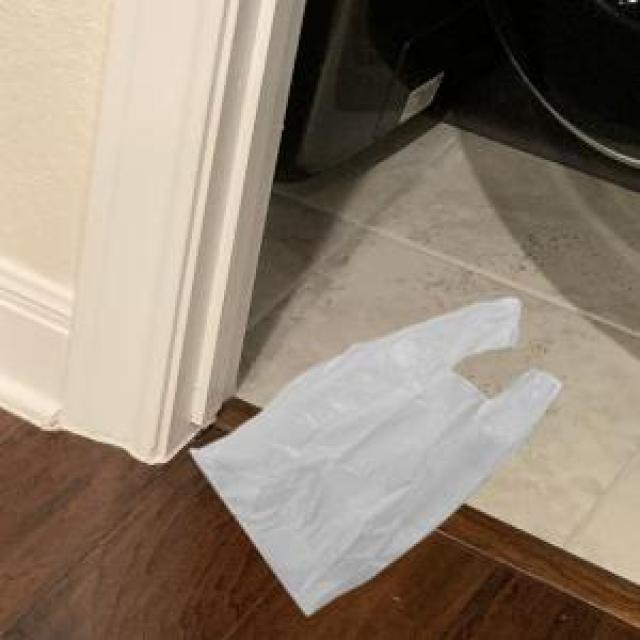waste: (192, 299, 559, 613)
